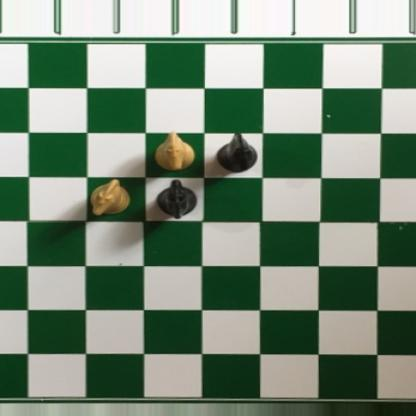black-knight: (216, 131, 259, 173), (156, 179, 199, 220)
white-knight: (151, 130, 194, 172), (89, 177, 129, 217)
